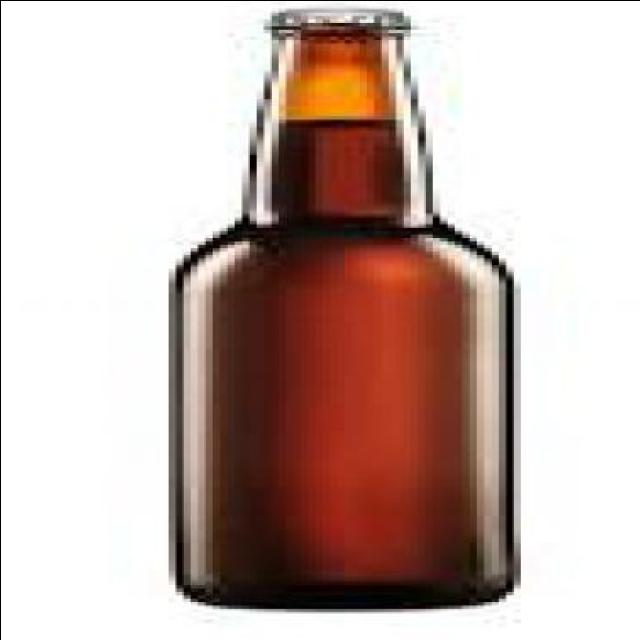kaca: (183, 22, 520, 604)
